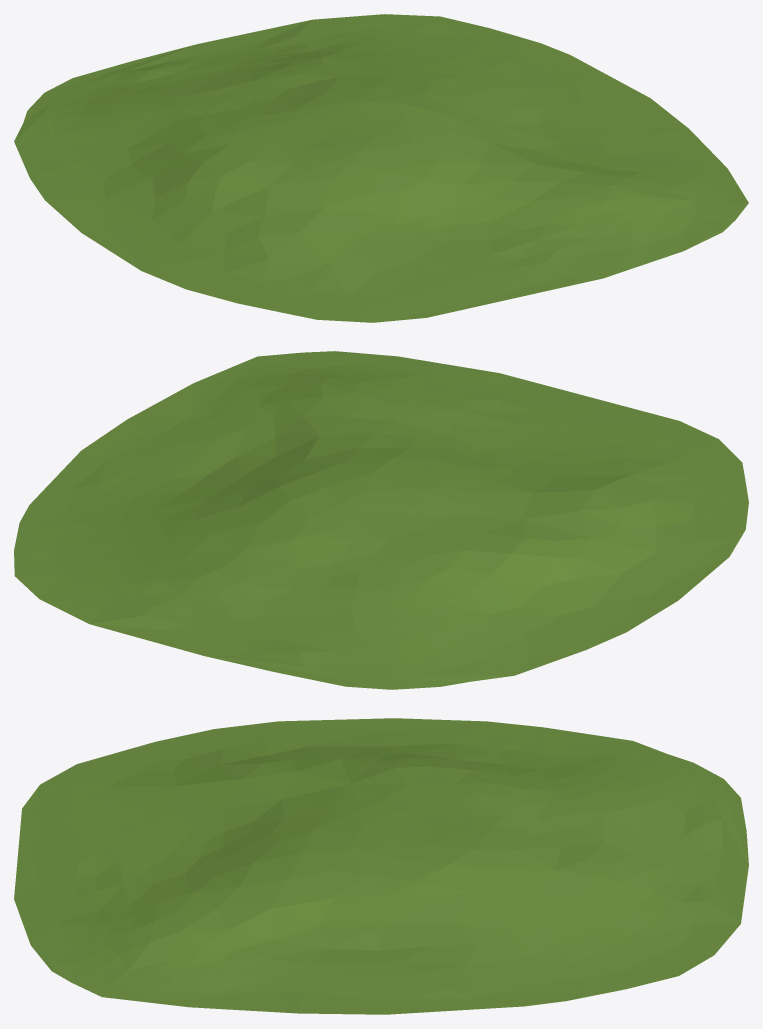
File: Hill_07.fbx
3 views of the same model, one above another, from view 1: azimuth 30°, elevation 25°; view 2: azimuth 150°, elevation 25°; view 3: azimuth 270°, elevation 25° (orthographic). The views are drawn at different scales.
Parts seen in each view (by area): view 1: Hill_07; view 2: Hill_07; view 3: Hill_07.
Boxes of the visible parts, x1=… form: Hill_07: x1=14, y1=14, x2=748, y2=322; Hill_07: x1=14, y1=351, x2=748, y2=689; Hill_07: x1=14, y1=718, x2=748, y2=1014.
Bounding box in the file's own units: 18.87 × 0.9397 × 19.76.
